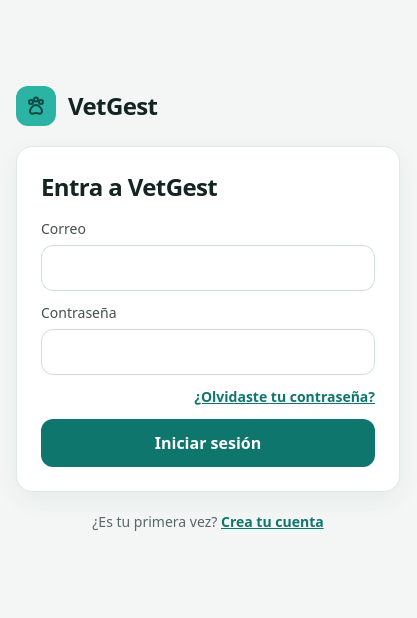
LoginPage › «Crea tu cuenta» abre el formulario de registro en vez de registrar con campos vacíos
Click the button "Crea tu cuenta".
click(272, 522)  # box [221,512,324,532]
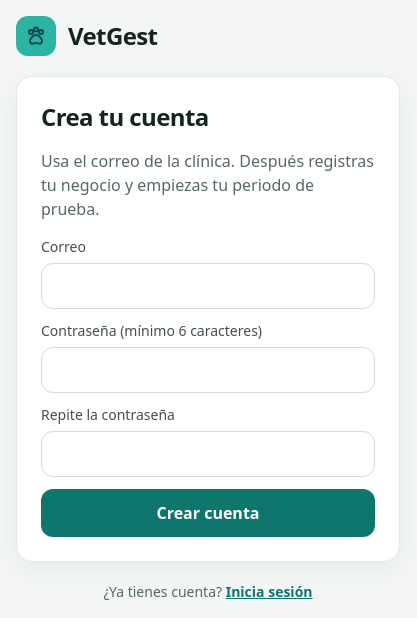
Now the heading "Crea tu cuenta" is shown, box [41,100,209,133]
Now the password field labelled "Repite la contraseña" is shown, box [41,431,375,477]
